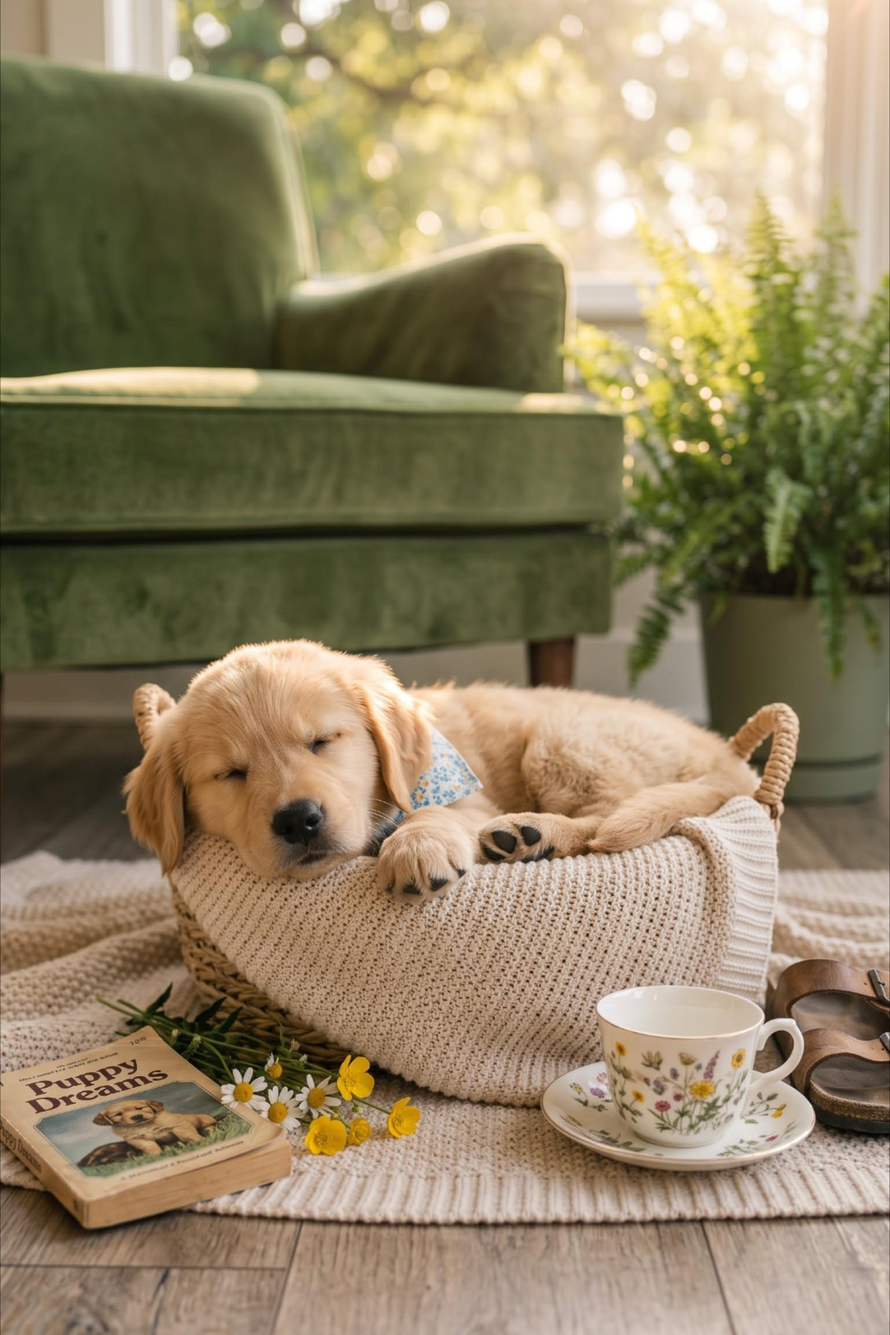puppy-dog: (120, 638, 767, 905)
